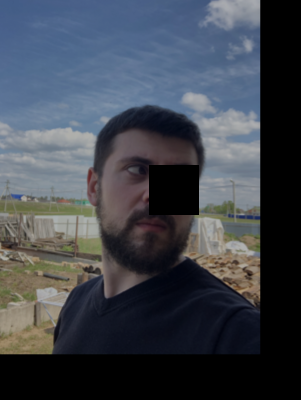without_mask: (111, 146, 198, 273)
